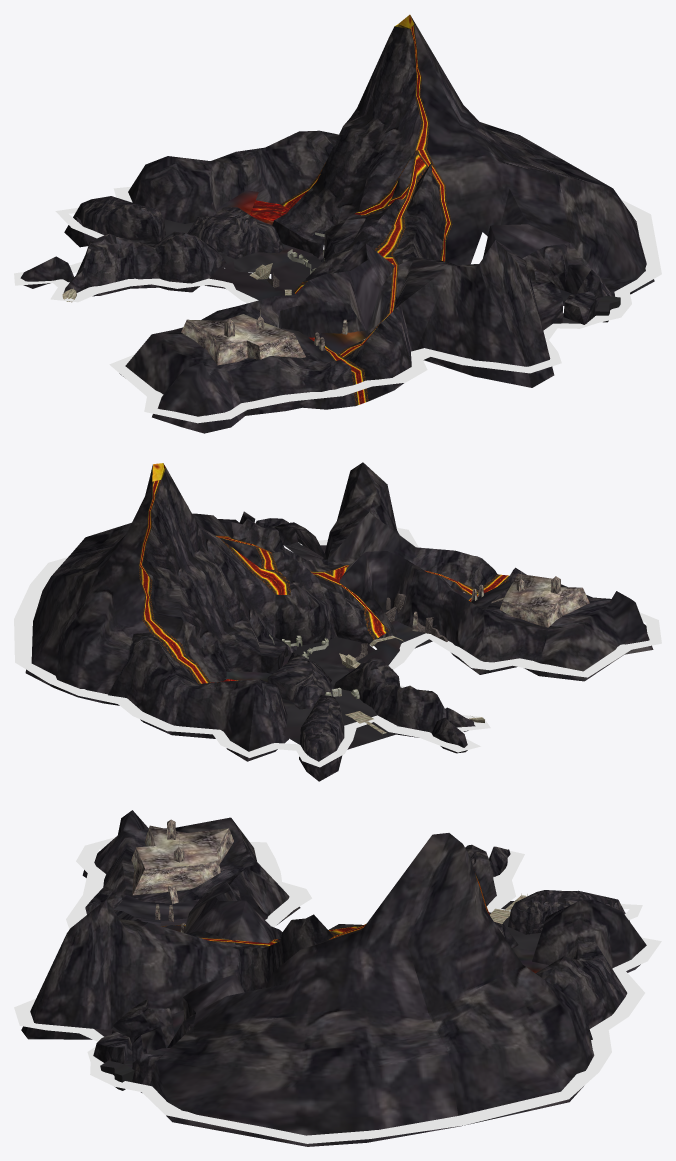
The model's file is pir_m_are_isl_delFuego_dock_lod.fbx.
The picture shows the model from 3 angles, top to bottom: view 1: azimuth 30°, elevation 25°; view 2: azimuth 150°, elevation 25°; view 3: azimuth 270°, elevation 25°; orthographic projection. The views are drawn at different scales.
Visible parts, largest first — view 1: rockFormation, dock_wave, floorSection, lava_combo, fort, rock1, lava; view 2: rockFormation, dock_wave, floorSection, lava_combo, fort, fort_piece, rock1; view 3: rockFormation, dock_wave, fort, floorSection, lava_combo.
Boxes of the visible parts, bbox=[...] form: rockFormation: bbox=[64, 15, 654, 433]; dock_wave: bbox=[14, 186, 661, 423]; floorSection: bbox=[76, 190, 620, 353]; lava_combo: bbox=[250, 14, 452, 358]; fort: bbox=[181, 305, 305, 365]; rock1: bbox=[20, 256, 73, 288]; lava: bbox=[309, 337, 368, 405]; rockFormation: bbox=[25, 462, 653, 781]; dock_wave: bbox=[14, 527, 661, 767]; floorSection: bbox=[224, 542, 471, 757]; lava_combo: bbox=[139, 463, 478, 683]; fort: bbox=[499, 572, 589, 627]; fort_piece: bbox=[355, 584, 504, 661]; rock1: bbox=[431, 717, 467, 753]; rockFormation: bbox=[21, 810, 646, 1146]; dock_wave: bbox=[14, 837, 661, 1143]; fort: bbox=[131, 819, 233, 895]; floorSection: bbox=[94, 901, 548, 1090]; lava_combo: bbox=[199, 873, 489, 947].
Size of the model in its own units: 296188 by 105188 by 258657.
5 materials, 5 textured.
